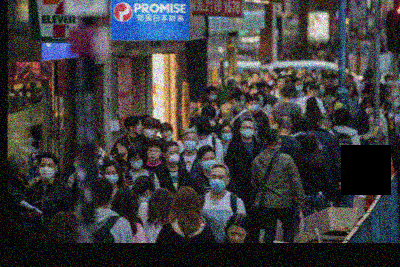mask_weared_incorrect: (160, 131, 172, 141)
with_mask: (210, 173, 227, 193), (38, 162, 55, 181), (201, 155, 217, 172), (104, 170, 120, 186), (166, 149, 181, 165), (240, 124, 255, 140), (183, 135, 197, 152), (129, 157, 144, 170), (142, 126, 156, 139), (221, 129, 233, 141), (229, 101, 240, 111), (249, 102, 259, 113), (294, 82, 304, 92), (208, 91, 217, 102), (365, 106, 375, 115), (74, 157, 81, 169), (319, 86, 326, 94)
without_mask: (228, 224, 247, 243), (149, 147, 162, 161), (21, 161, 29, 177), (133, 122, 143, 134)
